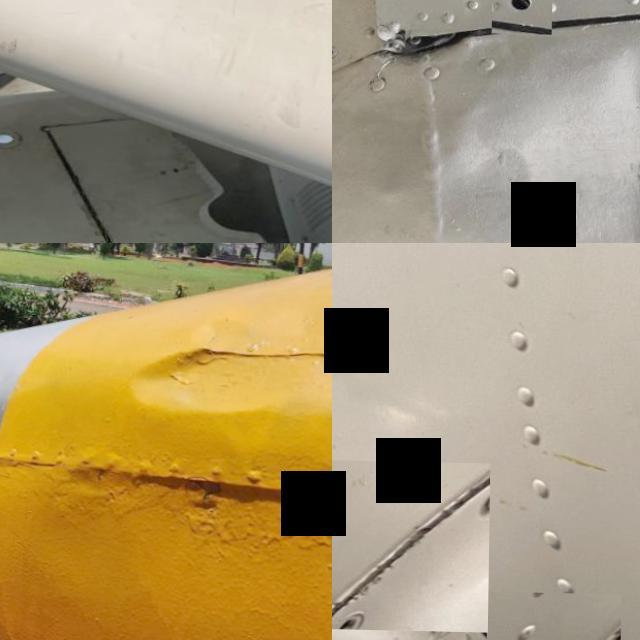Crack: (332, 458, 491, 630), (486, 589, 622, 640)
Dent: (403, 38, 640, 243), (104, 298, 309, 436)
Missing_Fastener: (491, 0, 552, 33), (430, 614, 467, 640)
